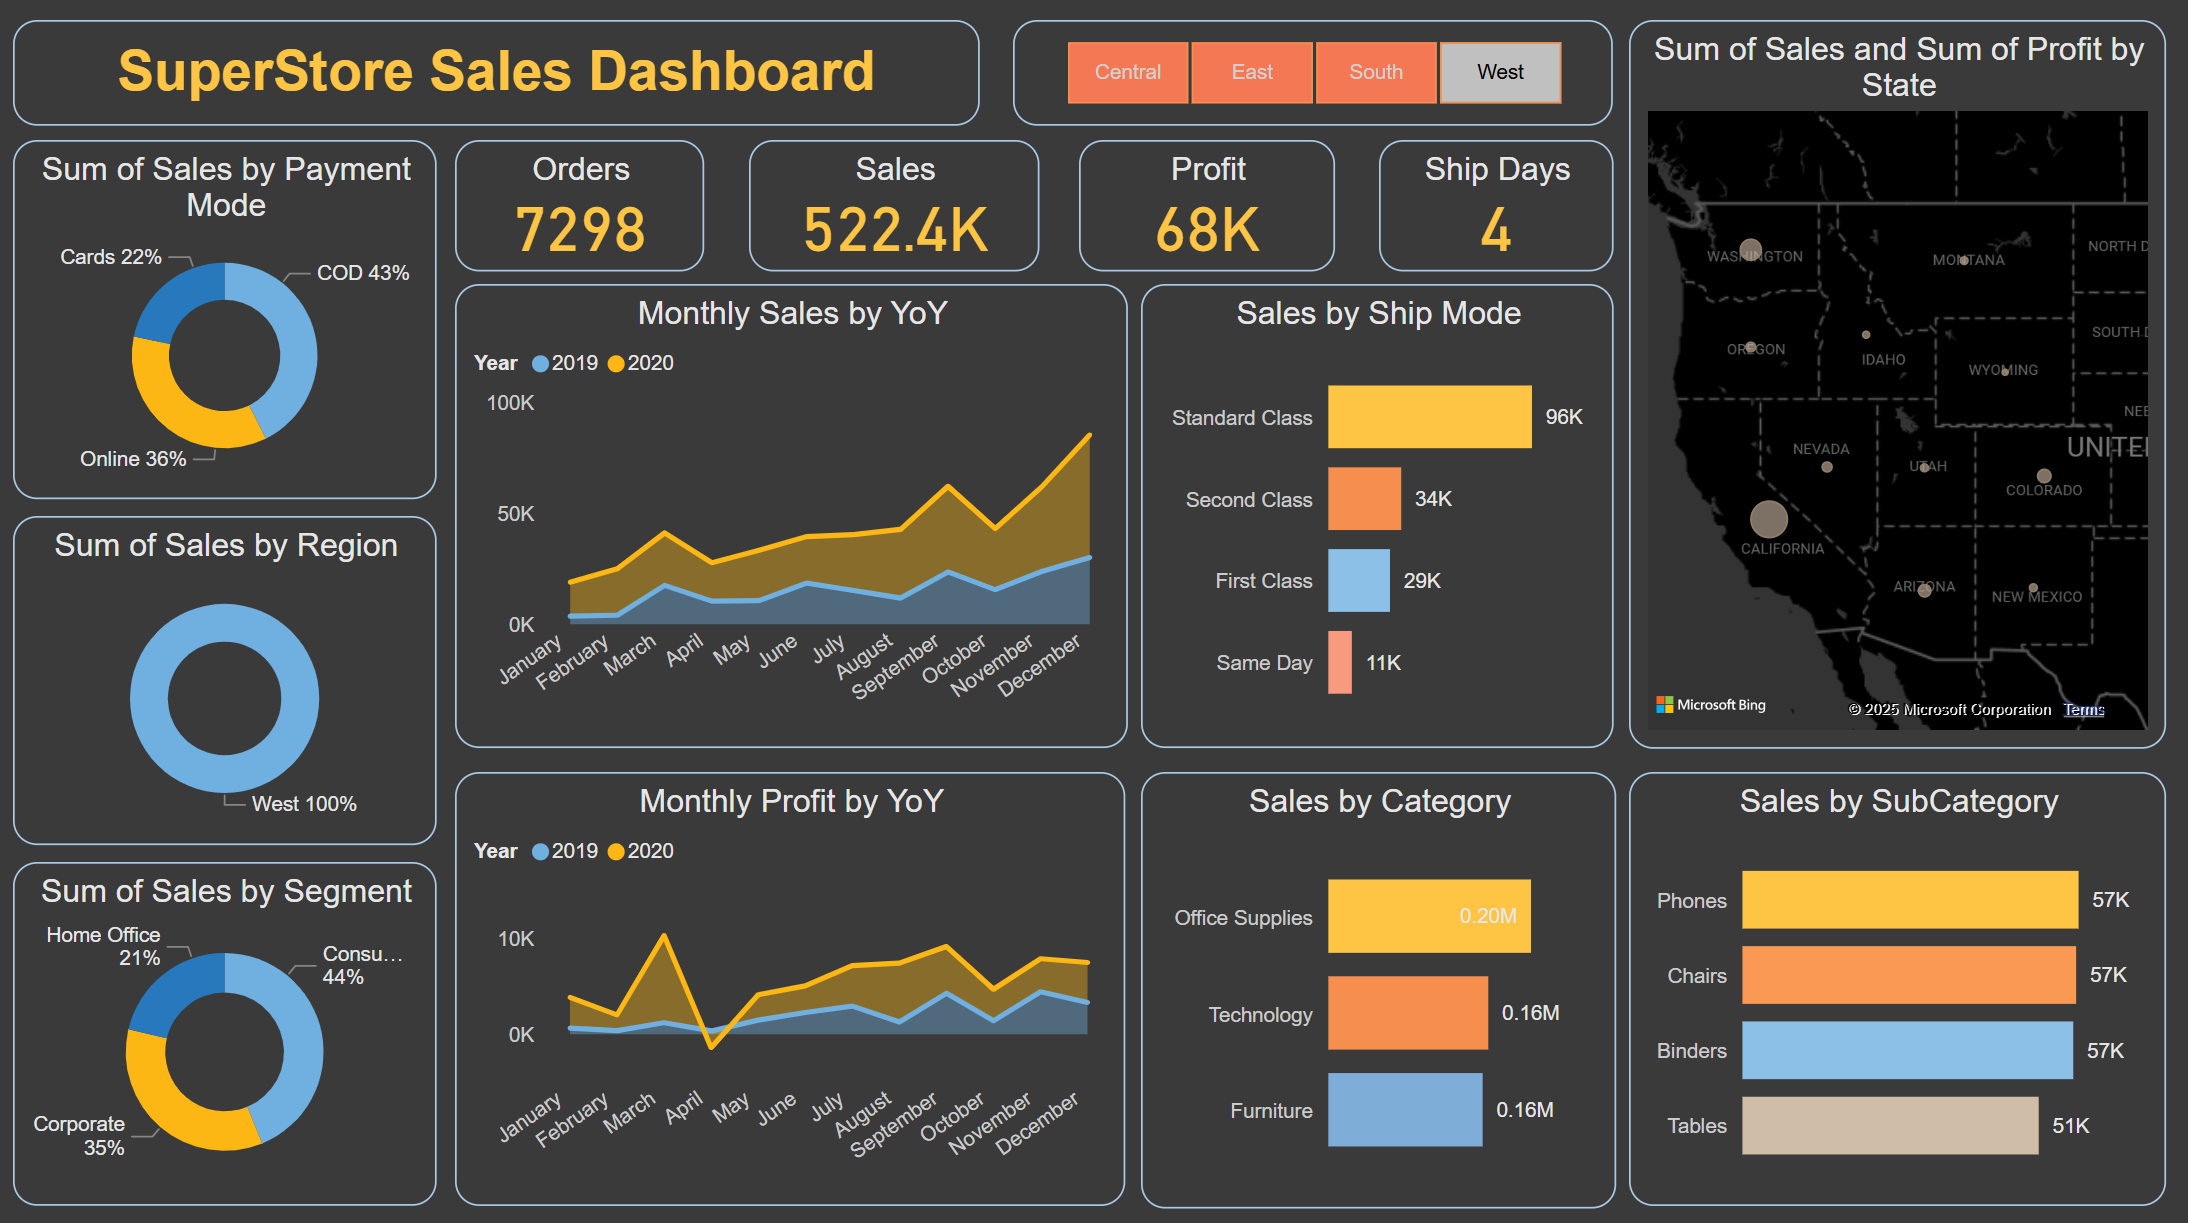

What the dashboard file says about the page in this screenshot:
{"tool":"powerbi","page":{"name":"Dashboard","canvas":[1280,720],"ordinal":0},"visuals":[{"type":"clusteredBarChart","title":" Sales by Category","fields":{"Category":["SuperStore_Sales_Dataset.Category"],"Y":["Sum(SuperStore_Sales_Dataset.Sales)"]},"box":[666.2,453.8,276.2,253.8],"z":0},{"type":"clusteredBarChart","title":" Sales by SubCategory","fields":{"Category":["SuperStore_Sales_Dataset.Sub-Category"],"Y":["Sum(SuperStore_Sales_Dataset.Sales)"]},"box":[951.2,453.8,312.5,252.5],"z":1000},{"type":"clusteredBarChart","title":" Sales by Ship Mode","fields":{"Category":["SuperStore_Sales_Dataset.Ship Mode"],"Y":["Sum(SuperStore_Sales_Dataset.Sales)"]},"box":[666.2,170,275,270],"z":2000},{"type":"stackedAreaChart","title":"Monthly Sales by YoY","fields":{"Y":["Sum(SuperStore_Sales_Dataset.Sales)"],"Category":["SuperStore_Sales_Dataset.Order Date.Variation.Date Hierarchy.Month","SuperStore_Sales_Dataset.Order Date.Variation.Date Hierarchy.Day"],"Series":["SuperStore_Sales_Dataset.Order Date.Variation.Date Hierarchy.Year"]},"box":[267.5,170,391.2,270],"z":3000},{"type":"stackedAreaChart","title":"Monthly Profit by YoY","fields":{"Category":["SuperStore_Sales_Dataset.Order Date.Variation.Date Hierarchy.Month","SuperStore_Sales_Dataset.Order Date.Variation.Date Hierarchy.Day"],"Series":["SuperStore_Sales_Dataset.Order Date.Variation.Date Hierarchy.Year"],"Y":["Sum(SuperStore_Sales_Dataset.Profit)"]},"box":[267.5,453.8,390,252.5],"z":4000},{"type":"map","fields":{"Category":["SuperStore_Sales_Dataset.State"],"Size":["Sum(SuperStore_Sales_Dataset.Sales)"]},"box":[951.2,16.2,312.5,423.8],"z":5000},{"type":"donutChart","fields":{"Category":["SuperStore_Sales_Dataset.Segment"],"Y":["Sum(SuperStore_Sales_Dataset.Sales)"]},"box":[10,506.2,246.2,200],"z":6000},{"type":"donutChart","fields":{"Category":["SuperStore_Sales_Dataset.Payment Mode"],"Y":["Sum(SuperStore_Sales_Dataset.Sales)"]},"box":[10,86.2,246.2,208.8],"z":7000},{"type":"slicer","fields":{"Values":["SuperStore_Sales_Dataset.Region"]},"box":[592.5,16.2,348.8,61.2],"z":8000},{"type":"textbox","box":[10,16.2,562.5,61.2],"z":9000},{"type":"card","title":"Sales","fields":{"Values":["Sum(SuperStore_Sales_Dataset.Sales)"]},"box":[438.8,86.2,168.8,76.2],"z":10000},{"type":"card","title":"Orders","fields":{"Values":["Sum(SuperStore_Sales_Dataset.Quantity)"]},"box":[267.5,86.2,145,76.2],"z":11000},{"type":"card","title":"Profit","fields":{"Values":["Sum(SuperStore_Sales_Dataset.Profit)"]},"box":[631.2,86.2,148.8,76.2],"z":12000},{"type":"card","title":"Ship Days","fields":{"Values":["Avg(SuperStore_Sales_Dataset.AvgDelivery)"]},"box":[805,86.2,136.2,76.2],"z":13000},{"type":"donutChart","fields":{"Category":["SuperStore_Sales_Dataset.Region"],"Y":["Sum(SuperStore_Sales_Dataset.Sales)"]},"box":[10,305,246.2,191.2],"z":14000}]}

Visuals, with their boxes in screenshot pixels (x1, y1, x2, y2), scaled from the page's 1280x720 canvas onto the 2188x1223 screenshot:
" Sales by Category" clusteredBarChart: bbox(1139, 771, 1611, 1202)
" Sales by SubCategory" clusteredBarChart: bbox(1626, 771, 2160, 1200)
" Sales by Ship Mode" clusteredBarChart: bbox(1139, 289, 1609, 747)
"Monthly Sales by YoY" stackedAreaChart: bbox(457, 289, 1126, 747)
"Monthly Profit by YoY" stackedAreaChart: bbox(457, 771, 1124, 1200)
map - SuperStore_Sales_Dataset.State x Sum(SuperStore_Sales_Dataset.Sales): bbox(1626, 28, 2160, 747)
donutChart - SuperStore_Sales_Dataset.Segment x Sum(SuperStore_Sales_Dataset.Sales): bbox(17, 860, 438, 1200)
donutChart - SuperStore_Sales_Dataset.Payment Mode x Sum(SuperStore_Sales_Dataset.Sales): bbox(17, 146, 438, 501)
slicer - SuperStore_Sales_Dataset.Region: bbox(1013, 28, 1609, 131)
textbox: bbox(17, 28, 979, 131)
"Sales" card: bbox(750, 146, 1039, 276)
"Orders" card: bbox(457, 146, 705, 276)
"Profit" card: bbox(1079, 146, 1333, 276)
"Ship Days" card: bbox(1376, 146, 1609, 276)
donutChart - SuperStore_Sales_Dataset.Region x Sum(SuperStore_Sales_Dataset.Sales): bbox(17, 518, 438, 843)
